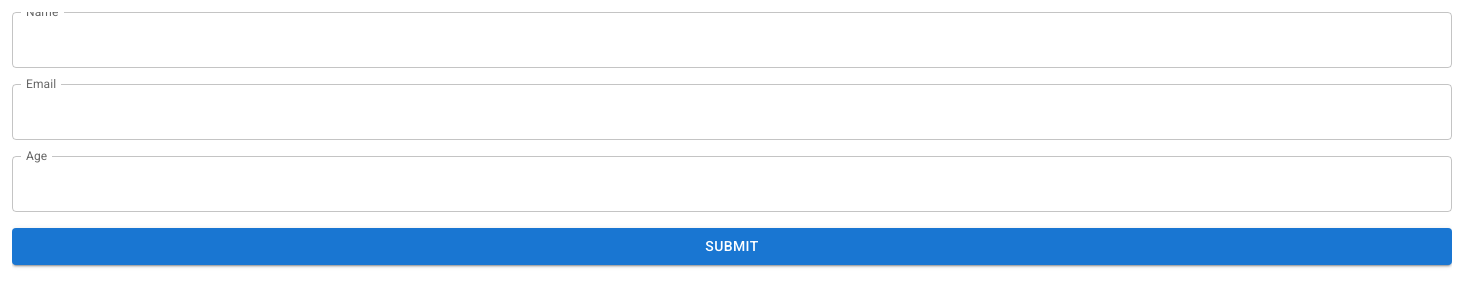
Test case: submit button is disabled if invalid email
The width and height of the screenshot is (1464, 304).
Check: the button "Submit" is enabled, box [12,228,1452,264]
Test with an invalid value
Step 1. Type "user" into the field labelled "Email" → x=732, y=112, box [12,84,1452,140]
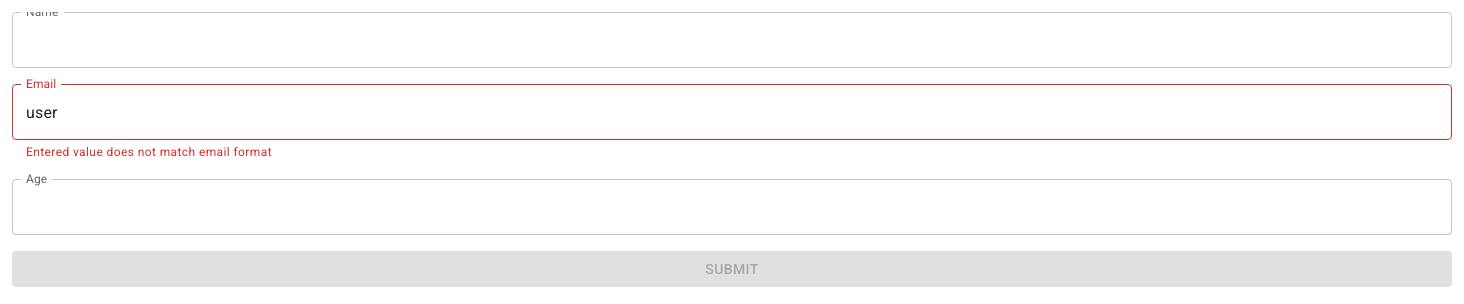
Check: the button "Submit" is disabled, box [12,251,1452,287]
Test with a valid value
Step 2. Replace the text in the field labelled "Email" with "user@email.com" → x=732, y=112, box [12,84,1452,140]
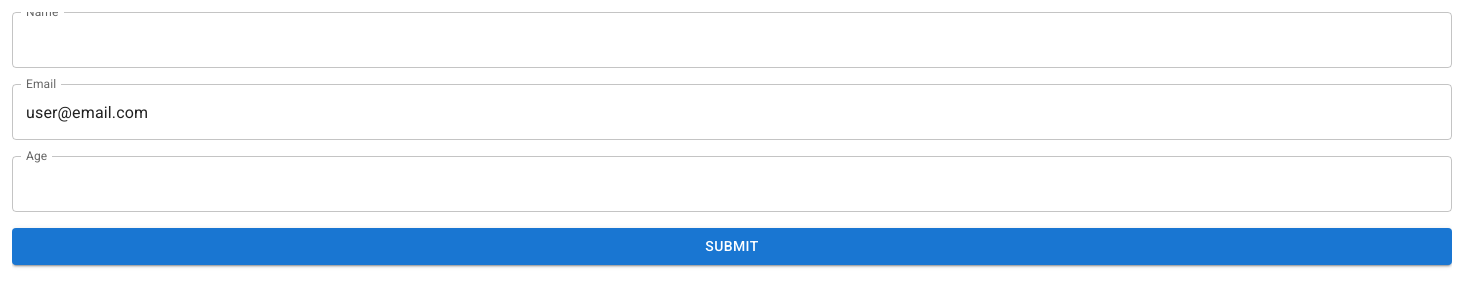
Check: the button "Submit" is enabled, box [12,228,1452,264]
